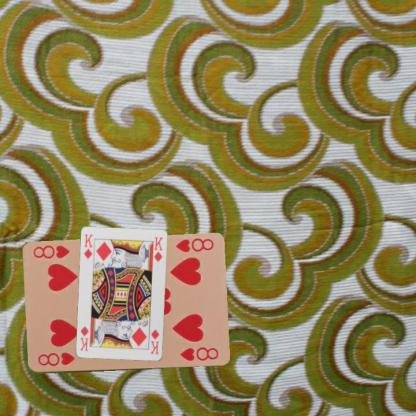8h: (172, 236, 215, 254), (35, 350, 76, 368)
Kd: (148, 327, 161, 355), (82, 232, 94, 260)
